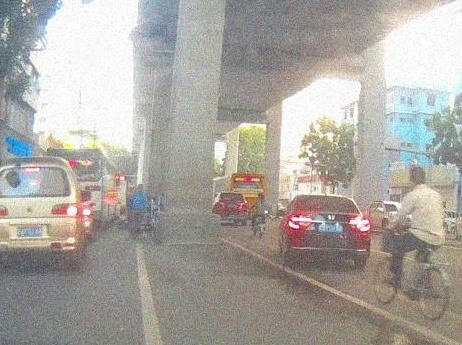L_light: (288, 216, 312, 230), (0, 205, 8, 216)
R_light: (52, 203, 78, 216), (349, 219, 369, 231)
T_light: (25, 167, 40, 171), (323, 197, 334, 199)
day-brake: (0, 157, 78, 269)
day-right: (285, 195, 370, 267)
